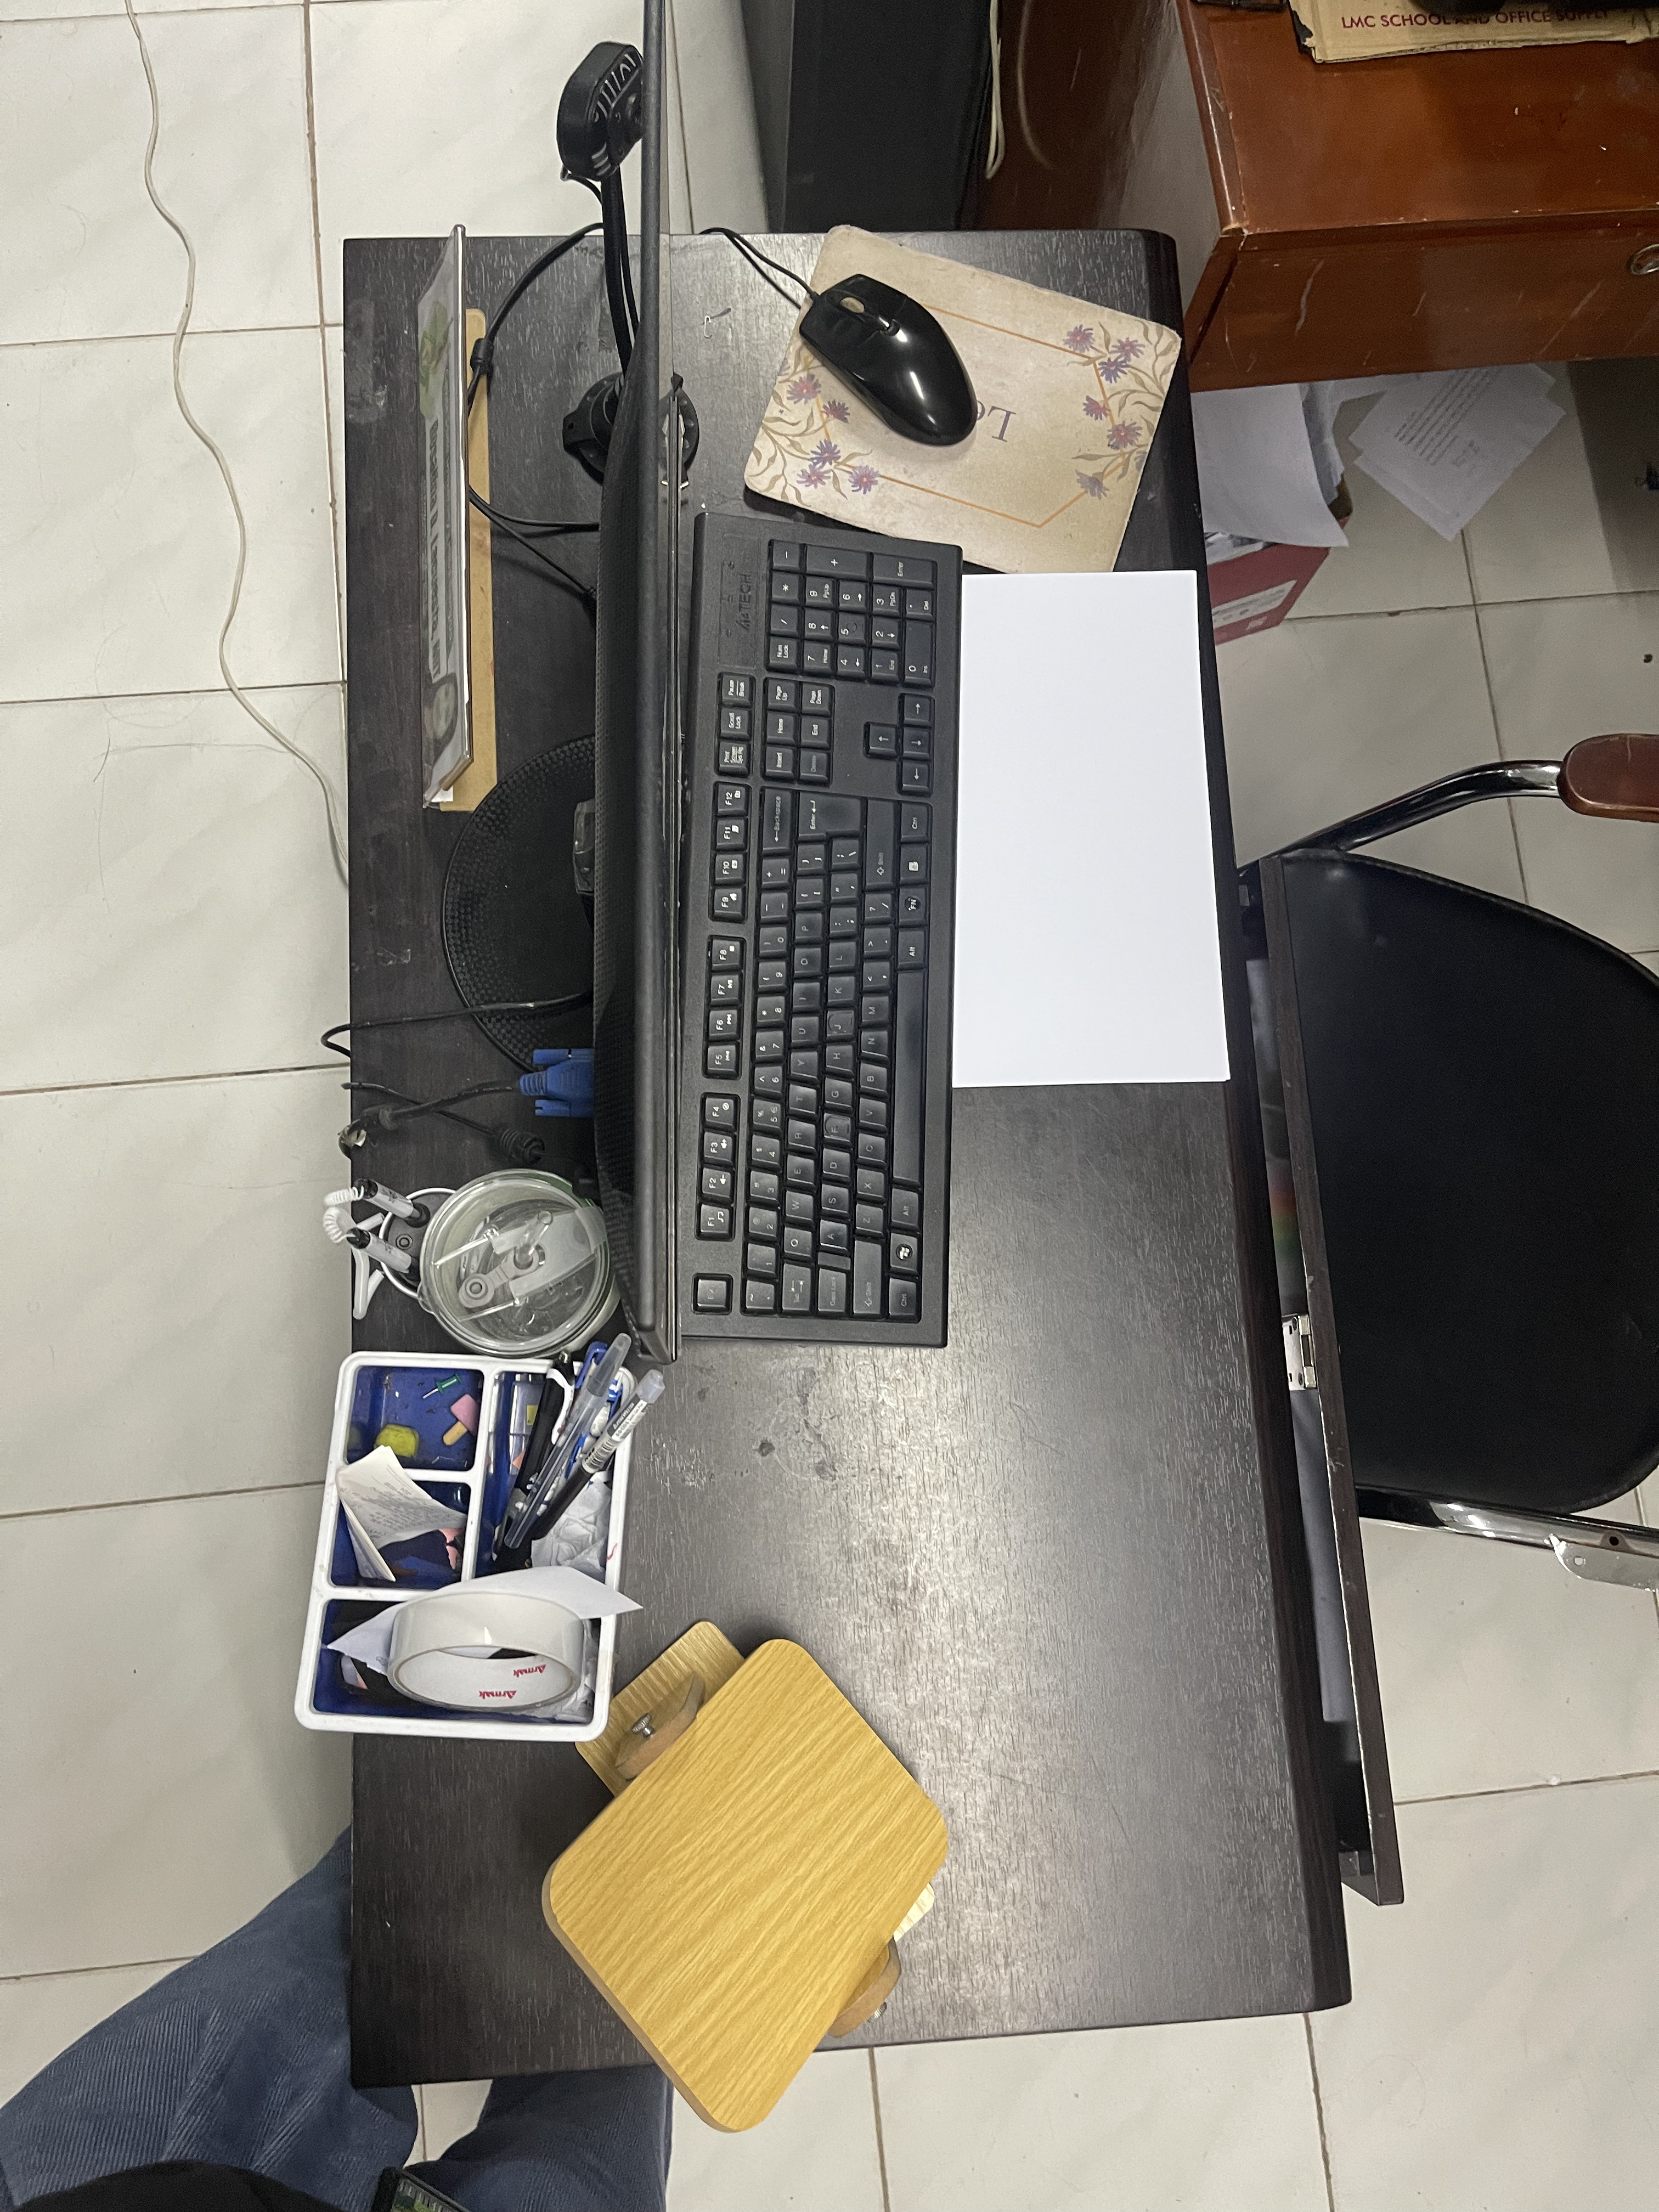table1: (329, 216, 1419, 2109)
